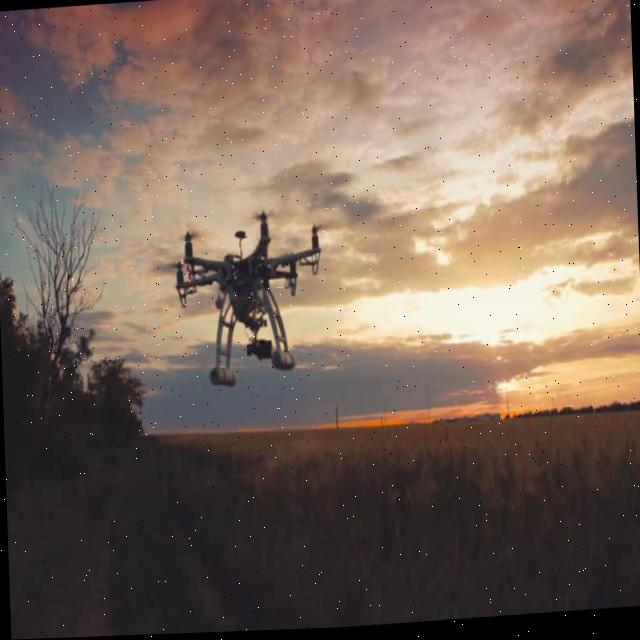drone: (148, 207, 338, 335)
